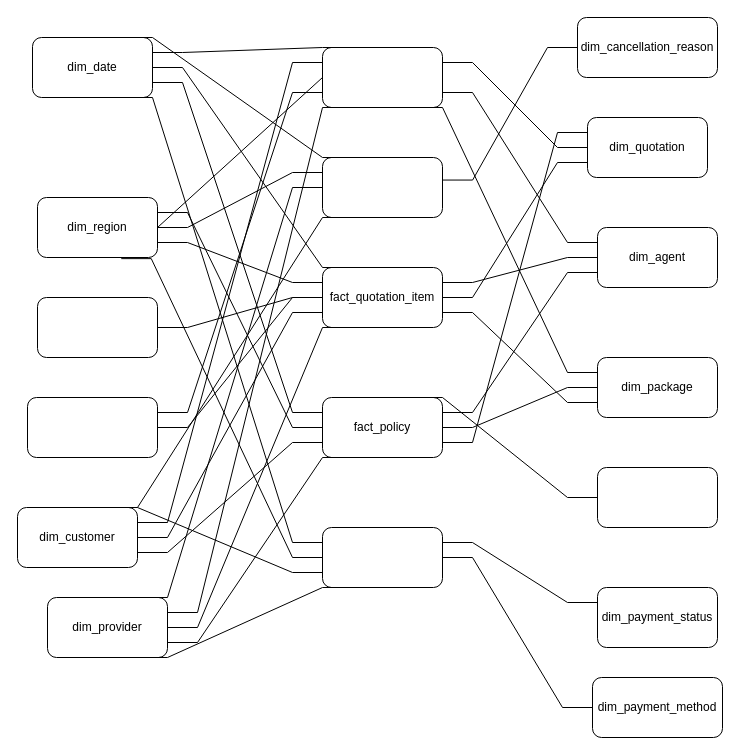
Some shapes in this 740 by 755 pixel diagram are drawn without their labels. The shapes that lost their labels are listed below. From the top down, each one's centre as x and y in pixels, then its label:
At pixel 382 77: "fact_quotation".
At pixel 382 187: "fact_cancellation".
At pixel 97 327: "dim_coverage".
At pixel 92 427: "dim_quotation_status".
At pixel 657 497: "dim_policy_status".
At pixel 382 557: "fact_payment".
